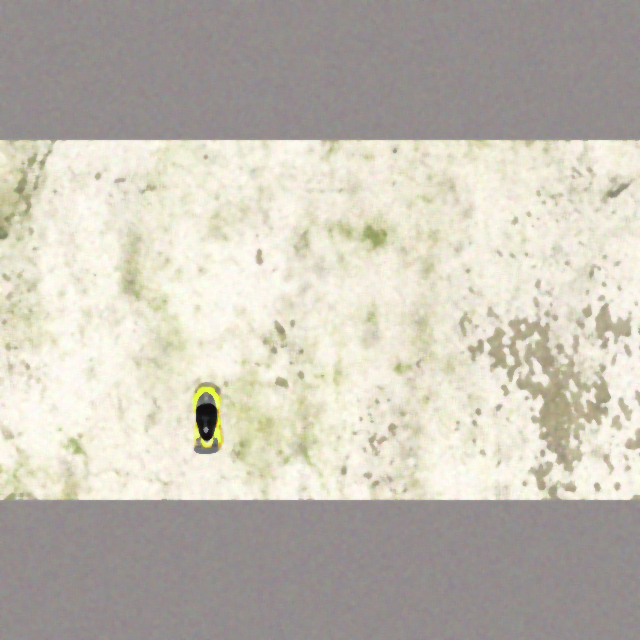car: (189, 384, 224, 454)
